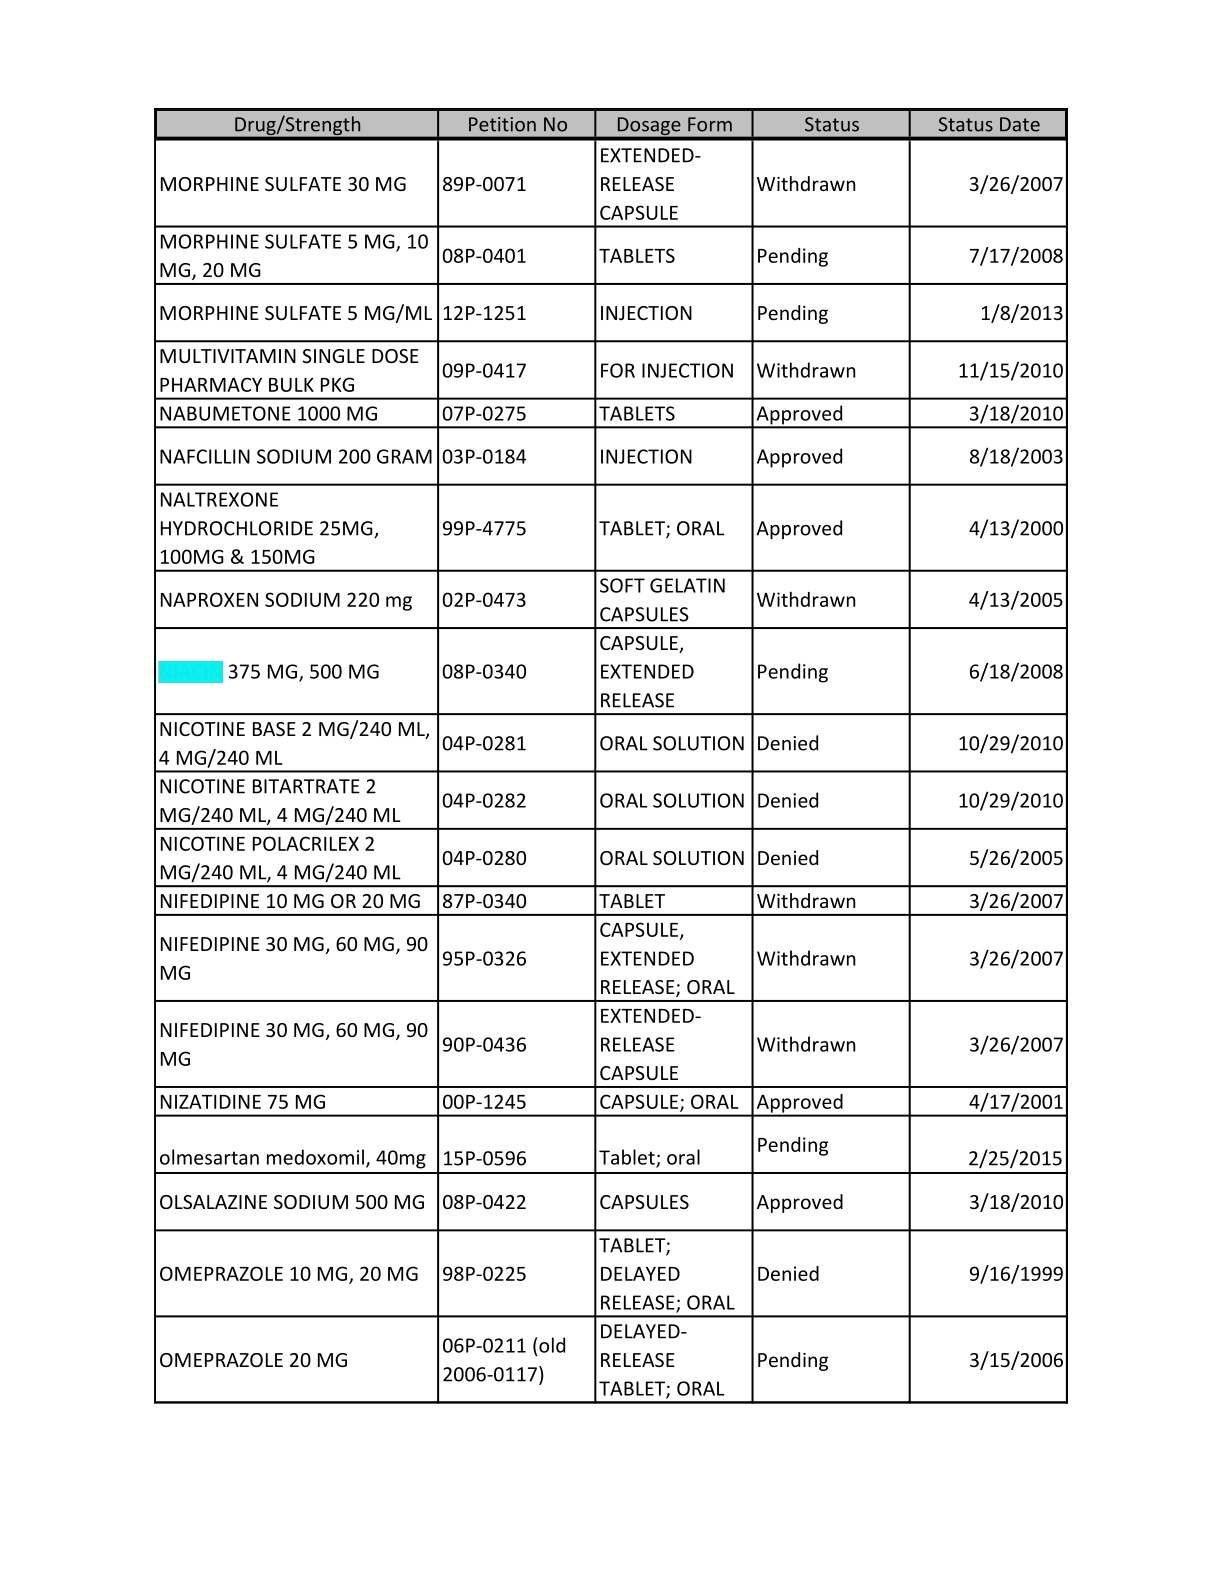full_lined: (148, 100, 1076, 1408)
